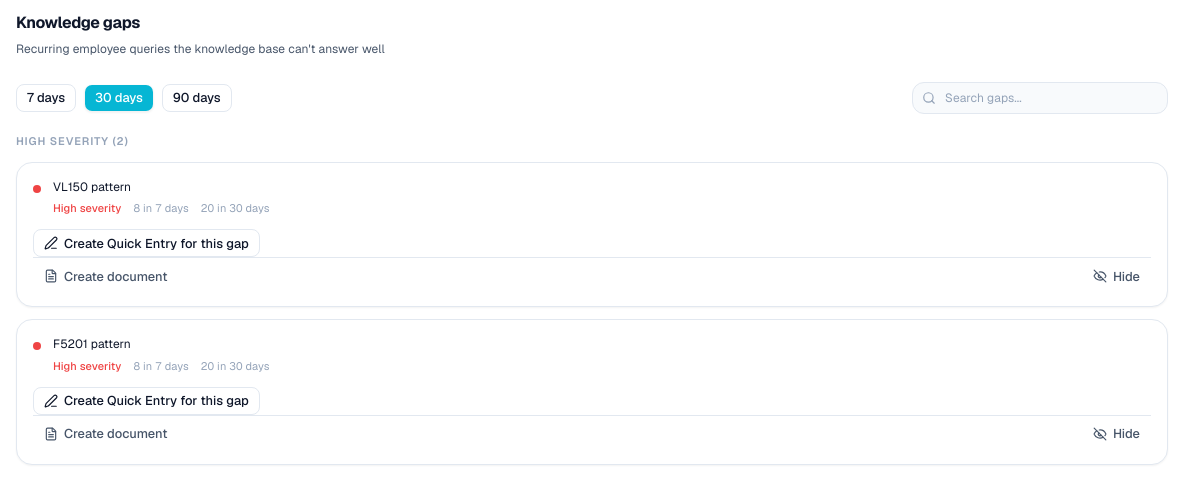
Scenario: KnowledgeGapsPage › filters gaps by the search box (matches gap_description)
Type "VL150" into the field named "Search knowledge gaps".
click(1040, 98); type("VL150")  # box [912, 82, 1168, 114]
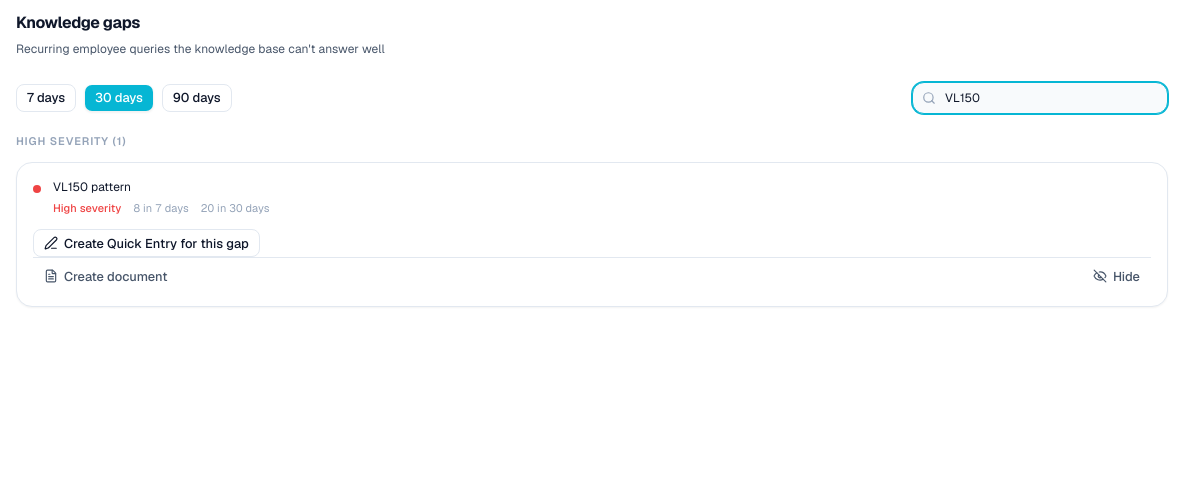
expect the text "VL150 pattern" is shown: met, box [53, 179, 131, 195]
expect the text "F5201 pattern" is gone: met
